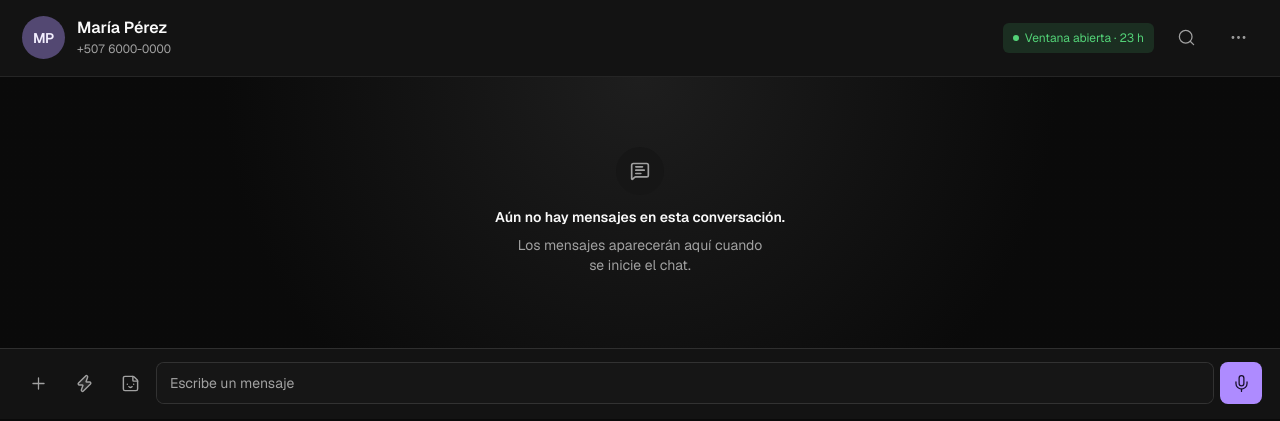
Test: ChatWorkspace › shows a mic button that switches to send once text is typed
Expected: the button named "Grabar audio" is shown, [1220, 362, 1262, 404]
Step 1. Type "Hola" into the text box labelled "mensaje" → point(685, 383), box [156, 362, 1214, 404]
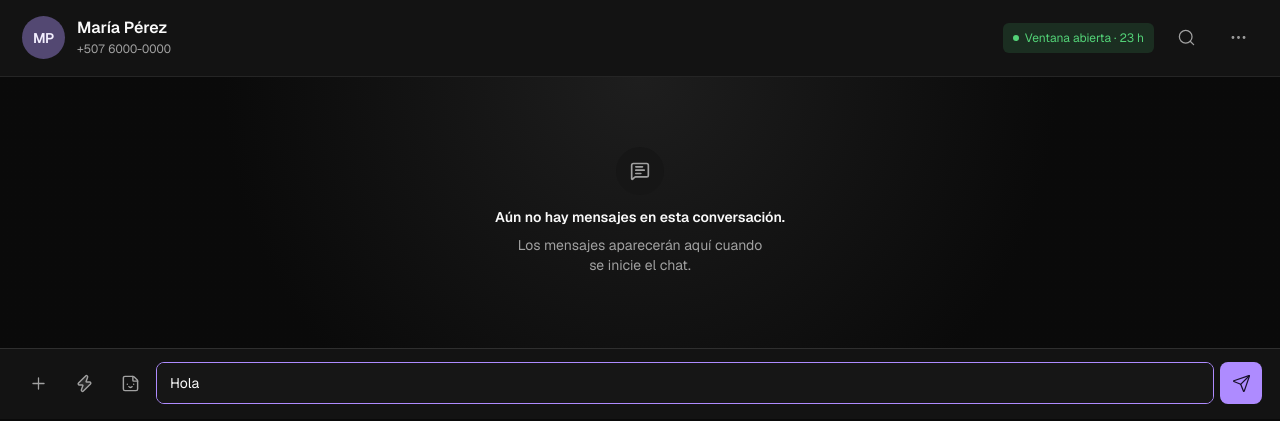
Result: the button named "Enviar mensaje" is shown at [1220, 362, 1262, 404]
